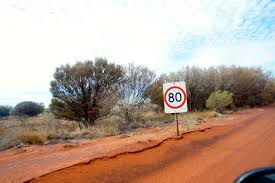Speed_limit_80km: (164, 87, 187, 109)
